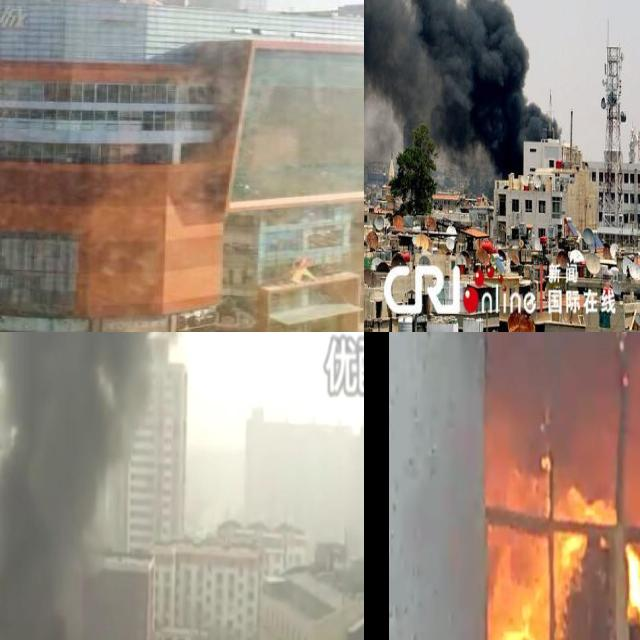fire: (481, 332, 640, 640)
smoke: (0, 332, 153, 640), (364, 0, 559, 179)
